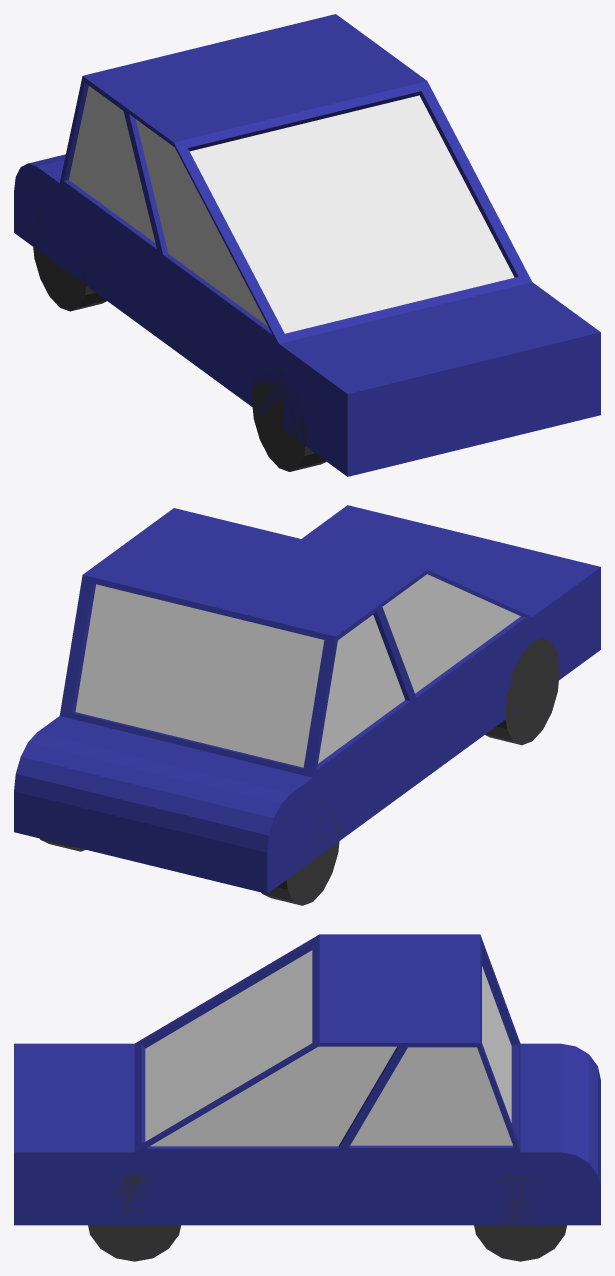
Rendered from car.fbx.
The picture shows the model from 3 angles, top to bottom: view 1: azimuth 30°, elevation 25°; view 2: azimuth 150°, elevation 25°; view 3: azimuth 270°, elevation 25°; orthographic projection. The views are drawn at different scales.
Parts seen in each view (by area): view 1: Cube; view 2: Cube; view 3: Cube.
Boxes of the visible parts, left/top/right/bottom form: Cube: left=14, top=14, right=600, bottom=476; Cube: left=14, top=505, right=600, bottom=905; Cube: left=14, top=934, right=600, bottom=1261.
Size of the model in its own units: 320 by 300 by 730.
